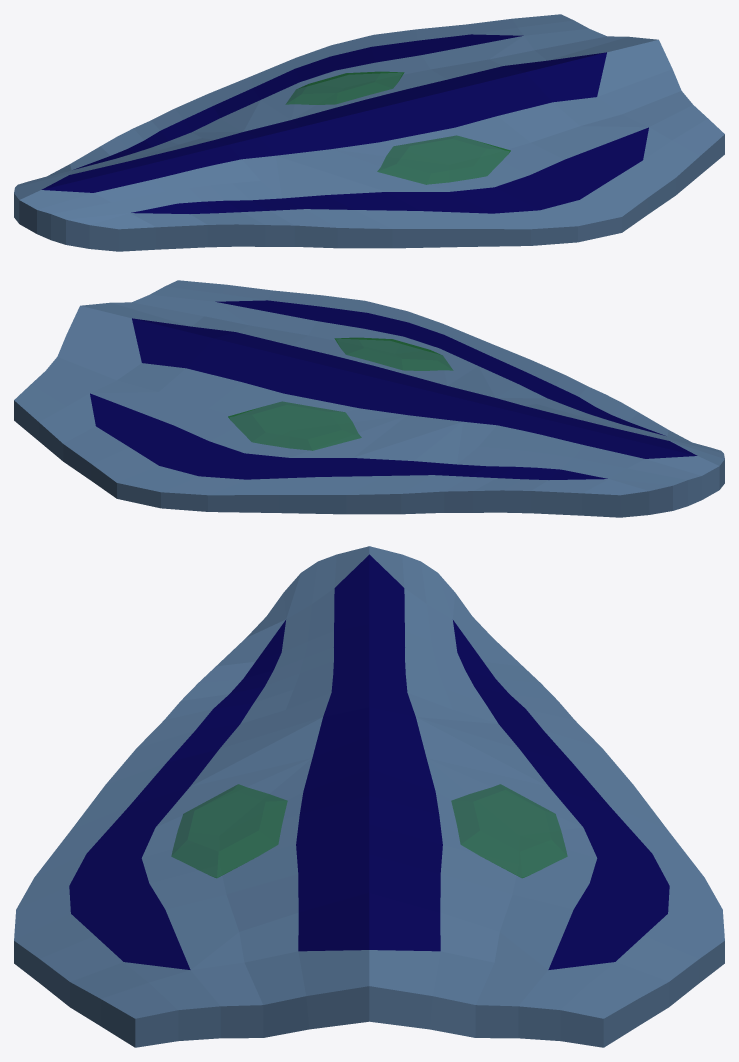
File: shield.glb
3 views of the same model, one above another, from view 1: azimuth 30°, elevation 25°; view 2: azimuth 150°, elevation 25°; view 3: azimuth 270°, elevation 25° (orthographic). The views are drawn at different scales.
Visible parts, largest first — view 1: shield; view 2: shield; view 3: shield.
Part boxes in pixels (box(x1,y1,x2,y2)): shield: box(14, 14, 724, 251); shield: box(14, 280, 724, 517); shield: box(14, 546, 724, 1047).
Bounding box in the file's own units: 0.9671 × 0.0914 × 0.6513.
